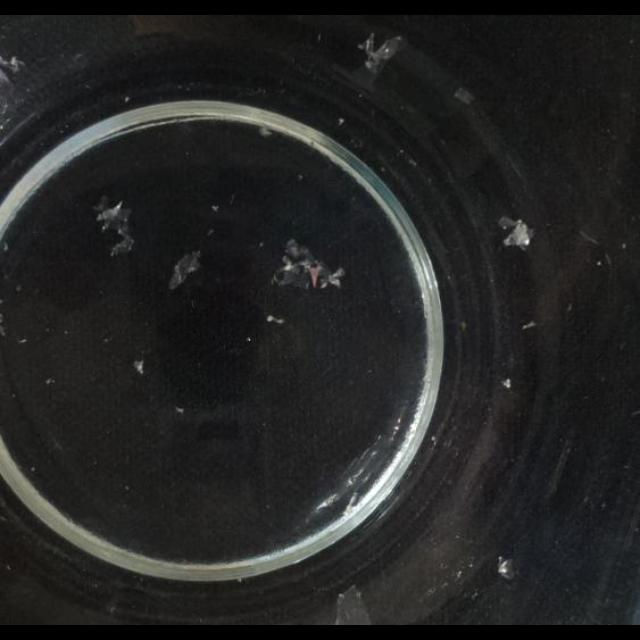Fibre: (94, 198, 134, 255), (360, 32, 404, 74), (336, 586, 374, 624), (168, 252, 202, 290), (500, 218, 534, 250), (1, 52, 25, 76), (316, 491, 342, 513), (342, 490, 362, 516), (497, 554, 515, 578), (133, 358, 145, 377), (266, 315, 284, 325), (260, 125, 274, 137), (522, 320, 536, 330), (174, 404, 184, 414), (337, 118, 345, 126), (3, 242, 9, 252), (211, 205, 219, 212), (124, 96, 130, 102)
Fragment: (258, 240, 358, 294)
microbeads: (502, 378, 511, 389), (44, 378, 54, 386), (456, 570, 464, 580), (18, 338, 28, 344), (431, 434, 437, 442)
